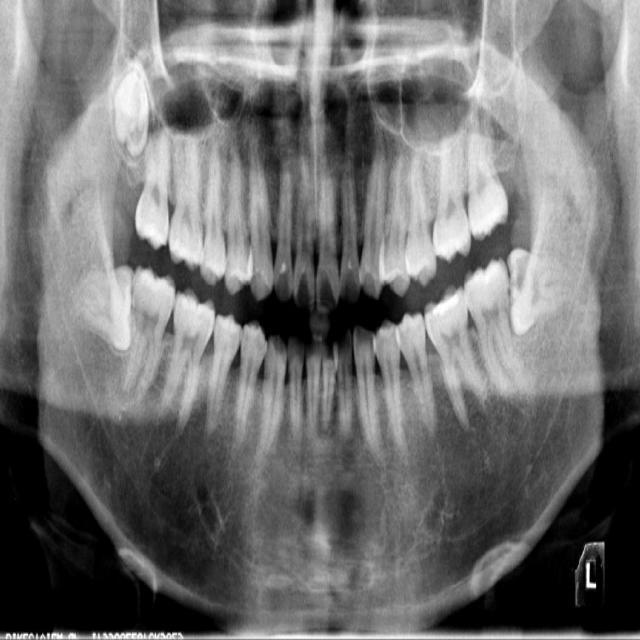impacted tooth: (508, 251, 577, 332), (70, 266, 132, 348), (113, 71, 149, 155)
